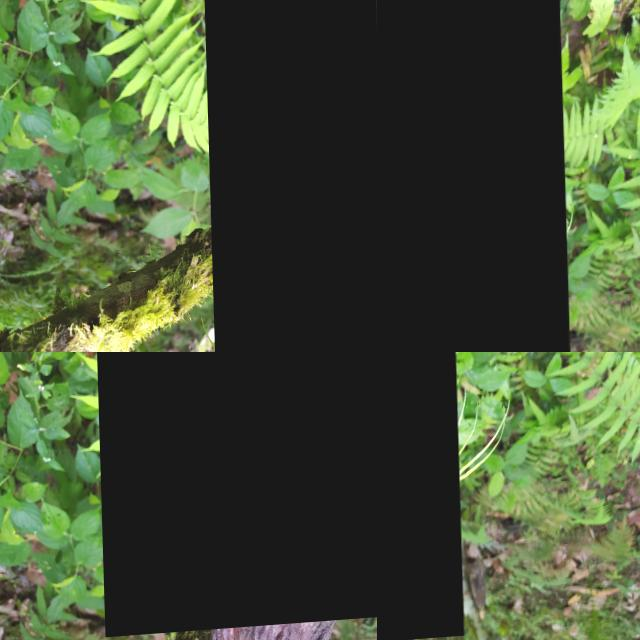Fitoftora: (92, 352, 377, 639), (377, 0, 571, 352), (198, 0, 377, 352), (377, 352, 460, 640)
